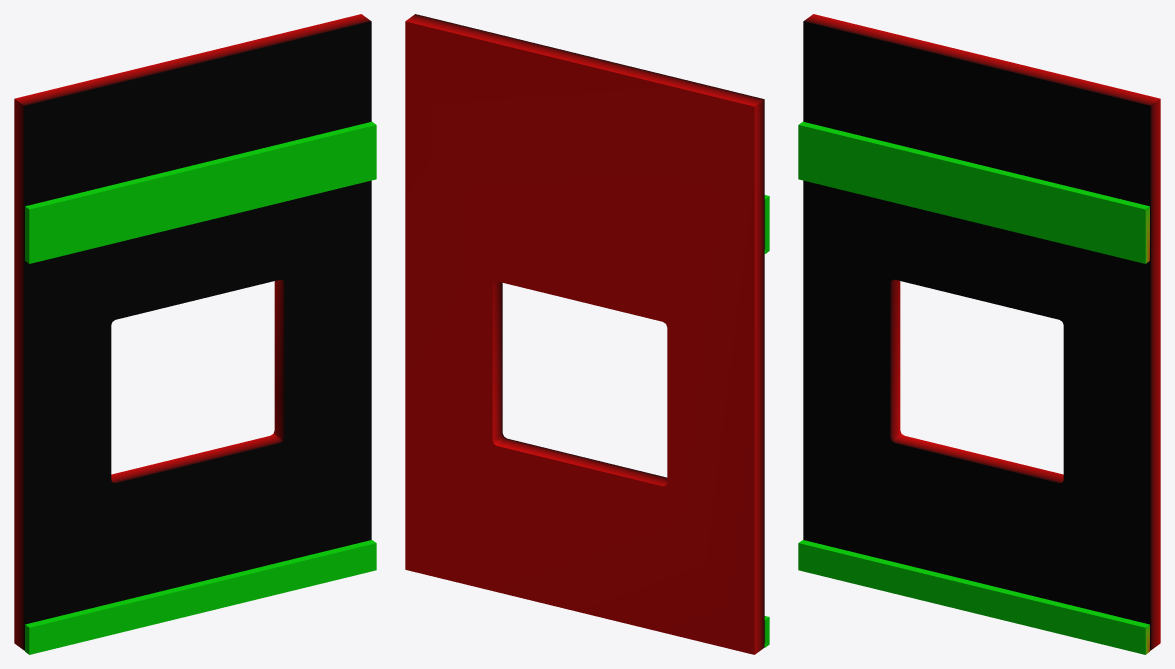
File: FlatWallV1.fbx
3 views of the same model, side by side, from view 1: azimuth 30°, elevation 25°; view 2: azimuth 150°, elevation 25°; view 3: azimuth 330°, elevation 25° (orthographic).
Parts seen in each view (by area): view 1: FlatWallV1, FlatBaseWall_1, FlatBaseWall; view 2: FlatWallV1; view 3: FlatWallV1, FlatBaseWall_1, FlatBaseWall.
Part boxes in pixels (left/top/right/bottom): FlatWallV1: left=14, top=14, right=371, bottom=650; FlatBaseWall_1: left=25, top=121, right=376, bottom=263; FlatBaseWall: left=25, top=540, right=376, bottom=654; FlatWallV1: left=405, top=14, right=764, bottom=654; FlatWallV1: left=803, top=14, right=1160, bottom=650; FlatBaseWall_1: left=798, top=121, right=1149, bottom=263; FlatBaseWall: left=798, top=540, right=1149, bottom=654.
Size of the model in its own units: 400 by 601 by 30.
